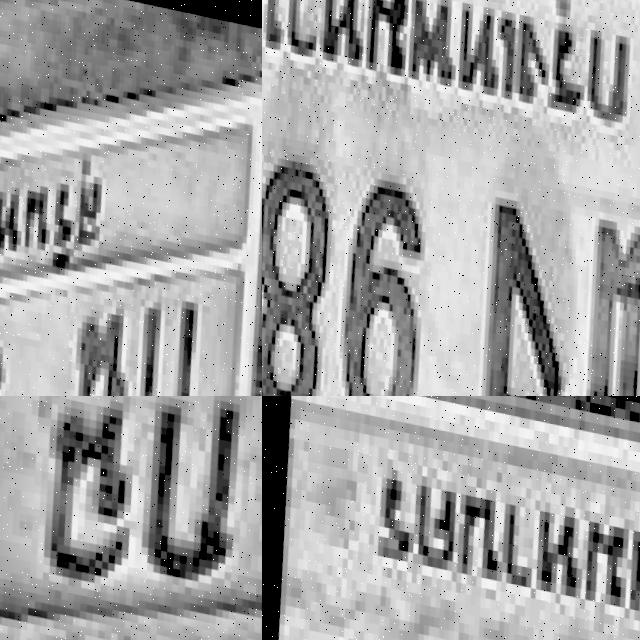license-plate: (262, 0, 640, 396), (262, 396, 640, 640), (0, 79, 262, 396), (0, 396, 262, 640)
